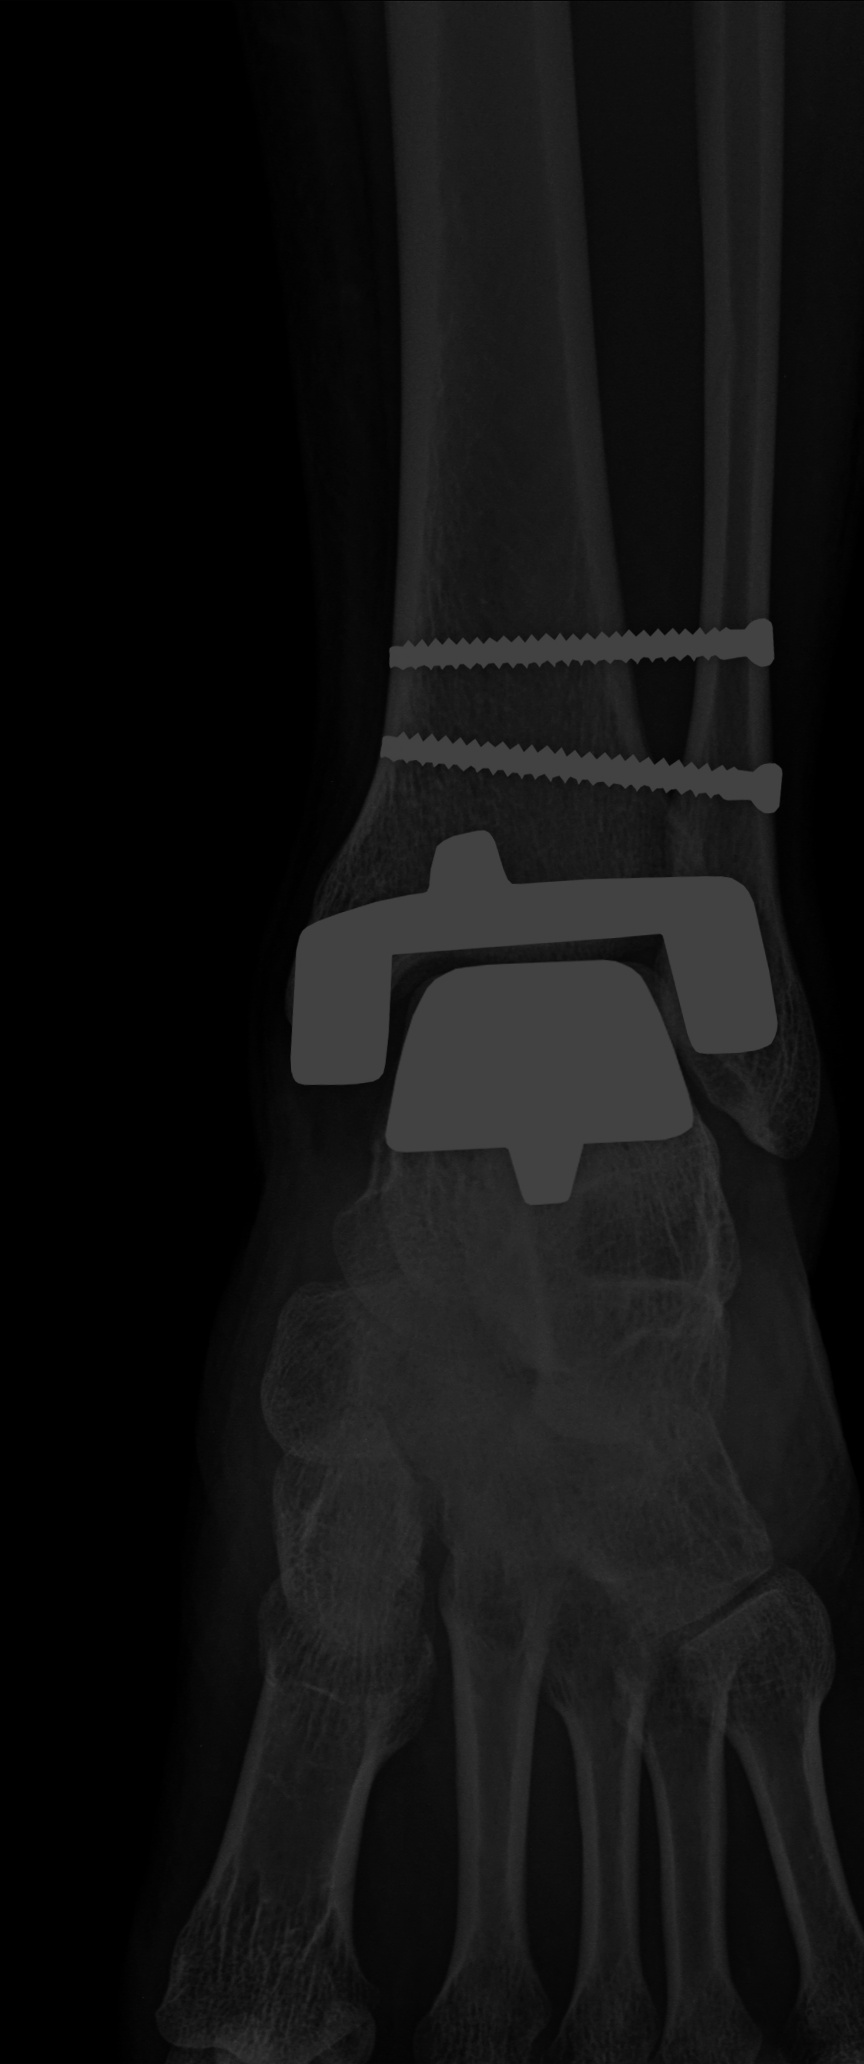Agility-Depuy: (242, 609, 790, 1212)
